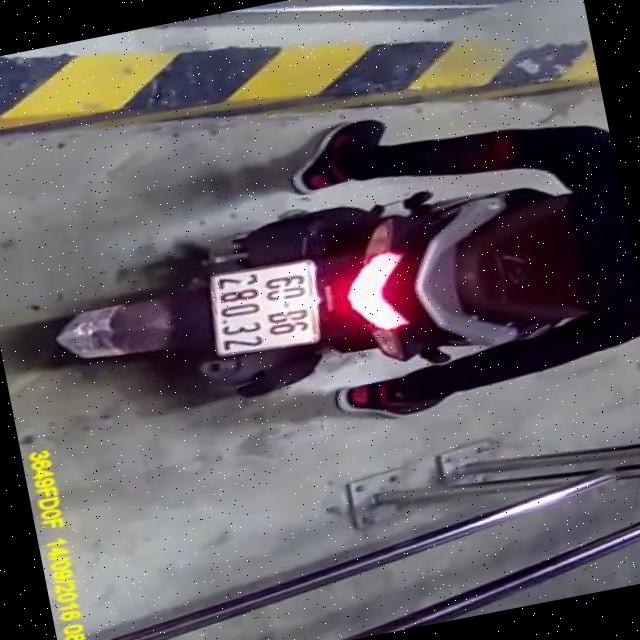license_plate: (196, 256, 328, 361)
